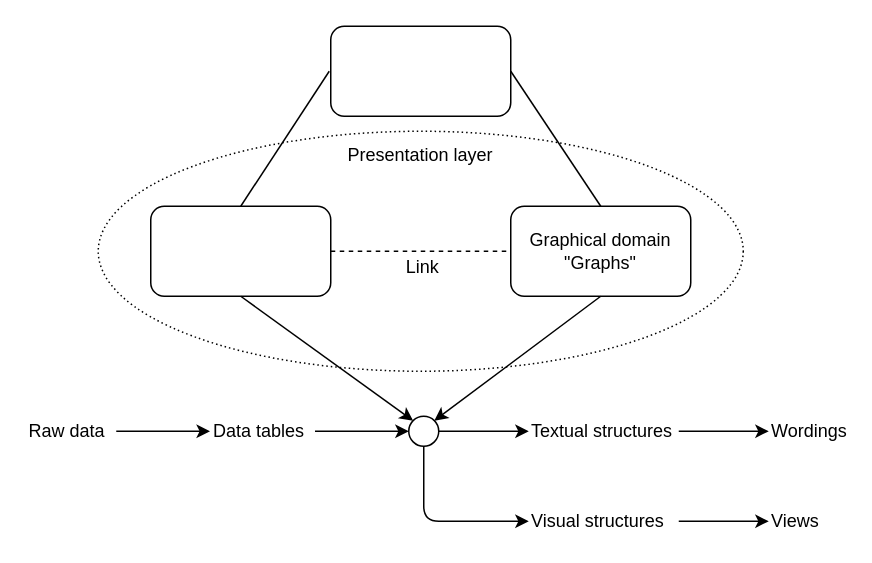
Image size: 872x563. Some labels were removed from this diagram. The shapes that lost their labels are listed below. From the top down, each one's centre as x and y in pixels, then its label:
(420,70): Application domain "Topic"
(240,250): Textual domain "Wordings"
